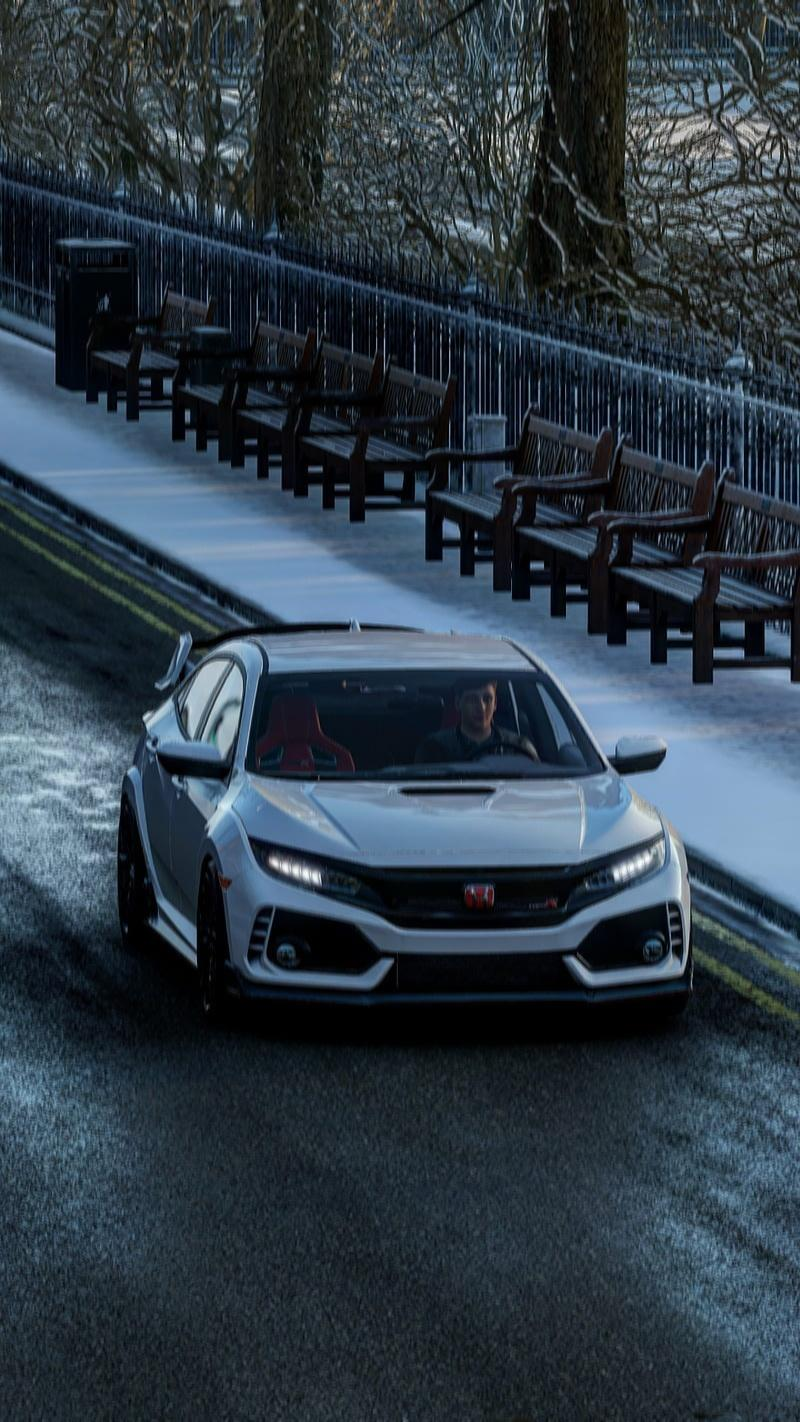Car hood: (229, 767, 664, 874)
Driver-s door - -F-R-: (168, 650, 245, 945)
Fender - -F-R-: (193, 760, 259, 940)
Front bumper: (211, 865, 709, 1014)
Headlight - -L-: (558, 829, 675, 907)
Headlight - -R-: (242, 828, 374, 907)
Passenger-s door - -R-R-: (133, 649, 222, 946)
Side bumper - -L-: (135, 868, 204, 984)
Side mirror - -L-: (603, 729, 675, 784)
Side mirror - -R-: (152, 735, 235, 786)
